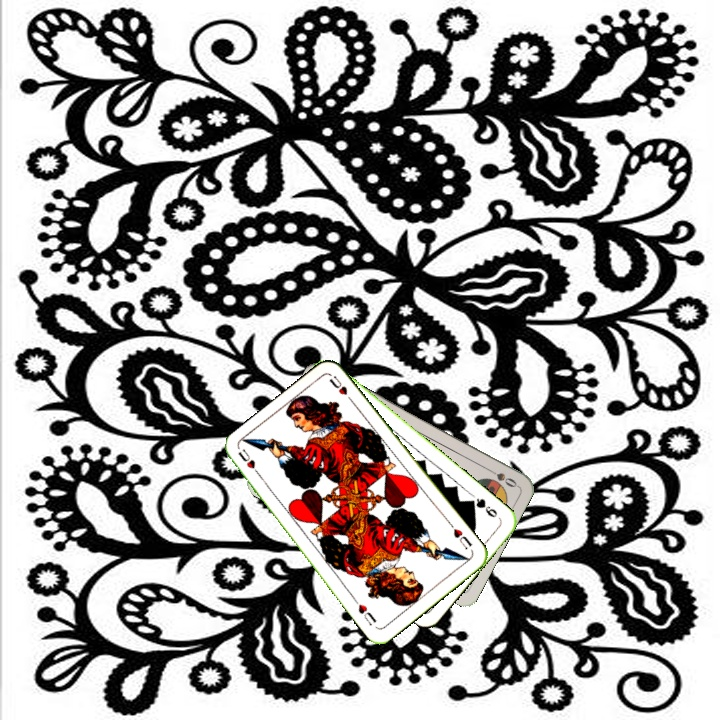G9: (465, 494, 500, 520)
HU: (234, 445, 265, 481), (449, 524, 474, 552)
SO: (482, 464, 520, 490)
